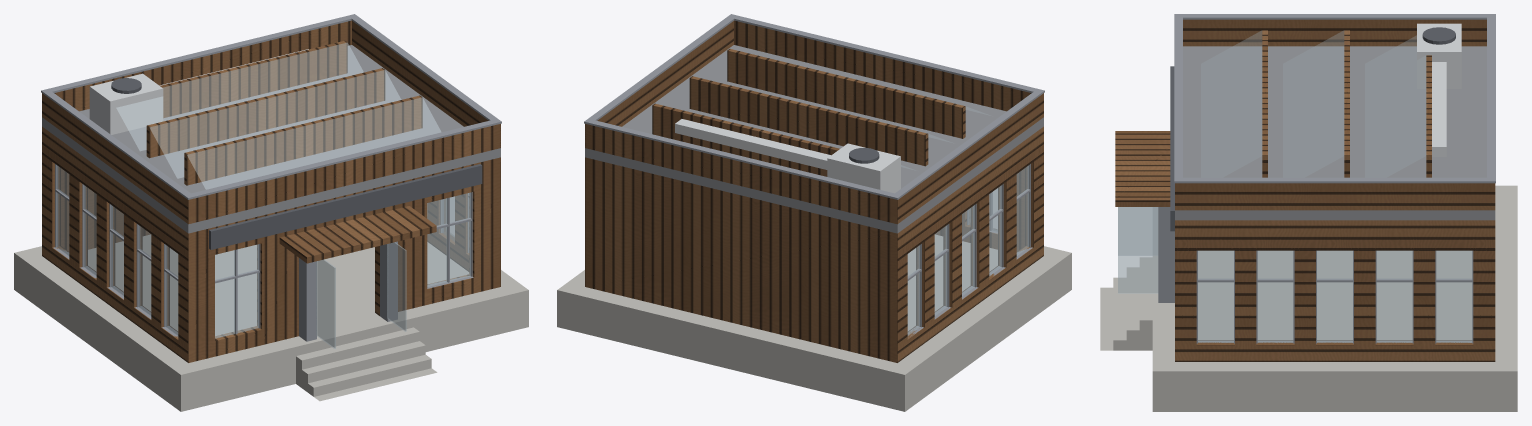
The model's file is spaces-ext-studio.glb.
3 renders of one model, left to right at view 1: azimuth 30°, elevation 25°; view 2: azimuth 150°, elevation 25°; view 3: azimuth 270°, elevation 25°, orthographic. The views are drawn at different scales.
Parts seen in each view (by area): view 1: studio exterior; view 2: studio exterior; view 3: studio exterior.
Boxes of the visible parts, <box> form: studio exterior: <box>14,14,528,411</box>; studio exterior: <box>557,14,1071,411</box>; studio exterior: <box>1100,14,1517,411</box>.
Bounding box in the file's own units: 11.8 × 6.9 × 11.2.
7 materials, 1 textured.
